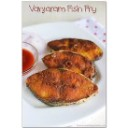seerfish: (25, 71, 99, 104), (41, 52, 97, 78), (51, 42, 104, 61)
